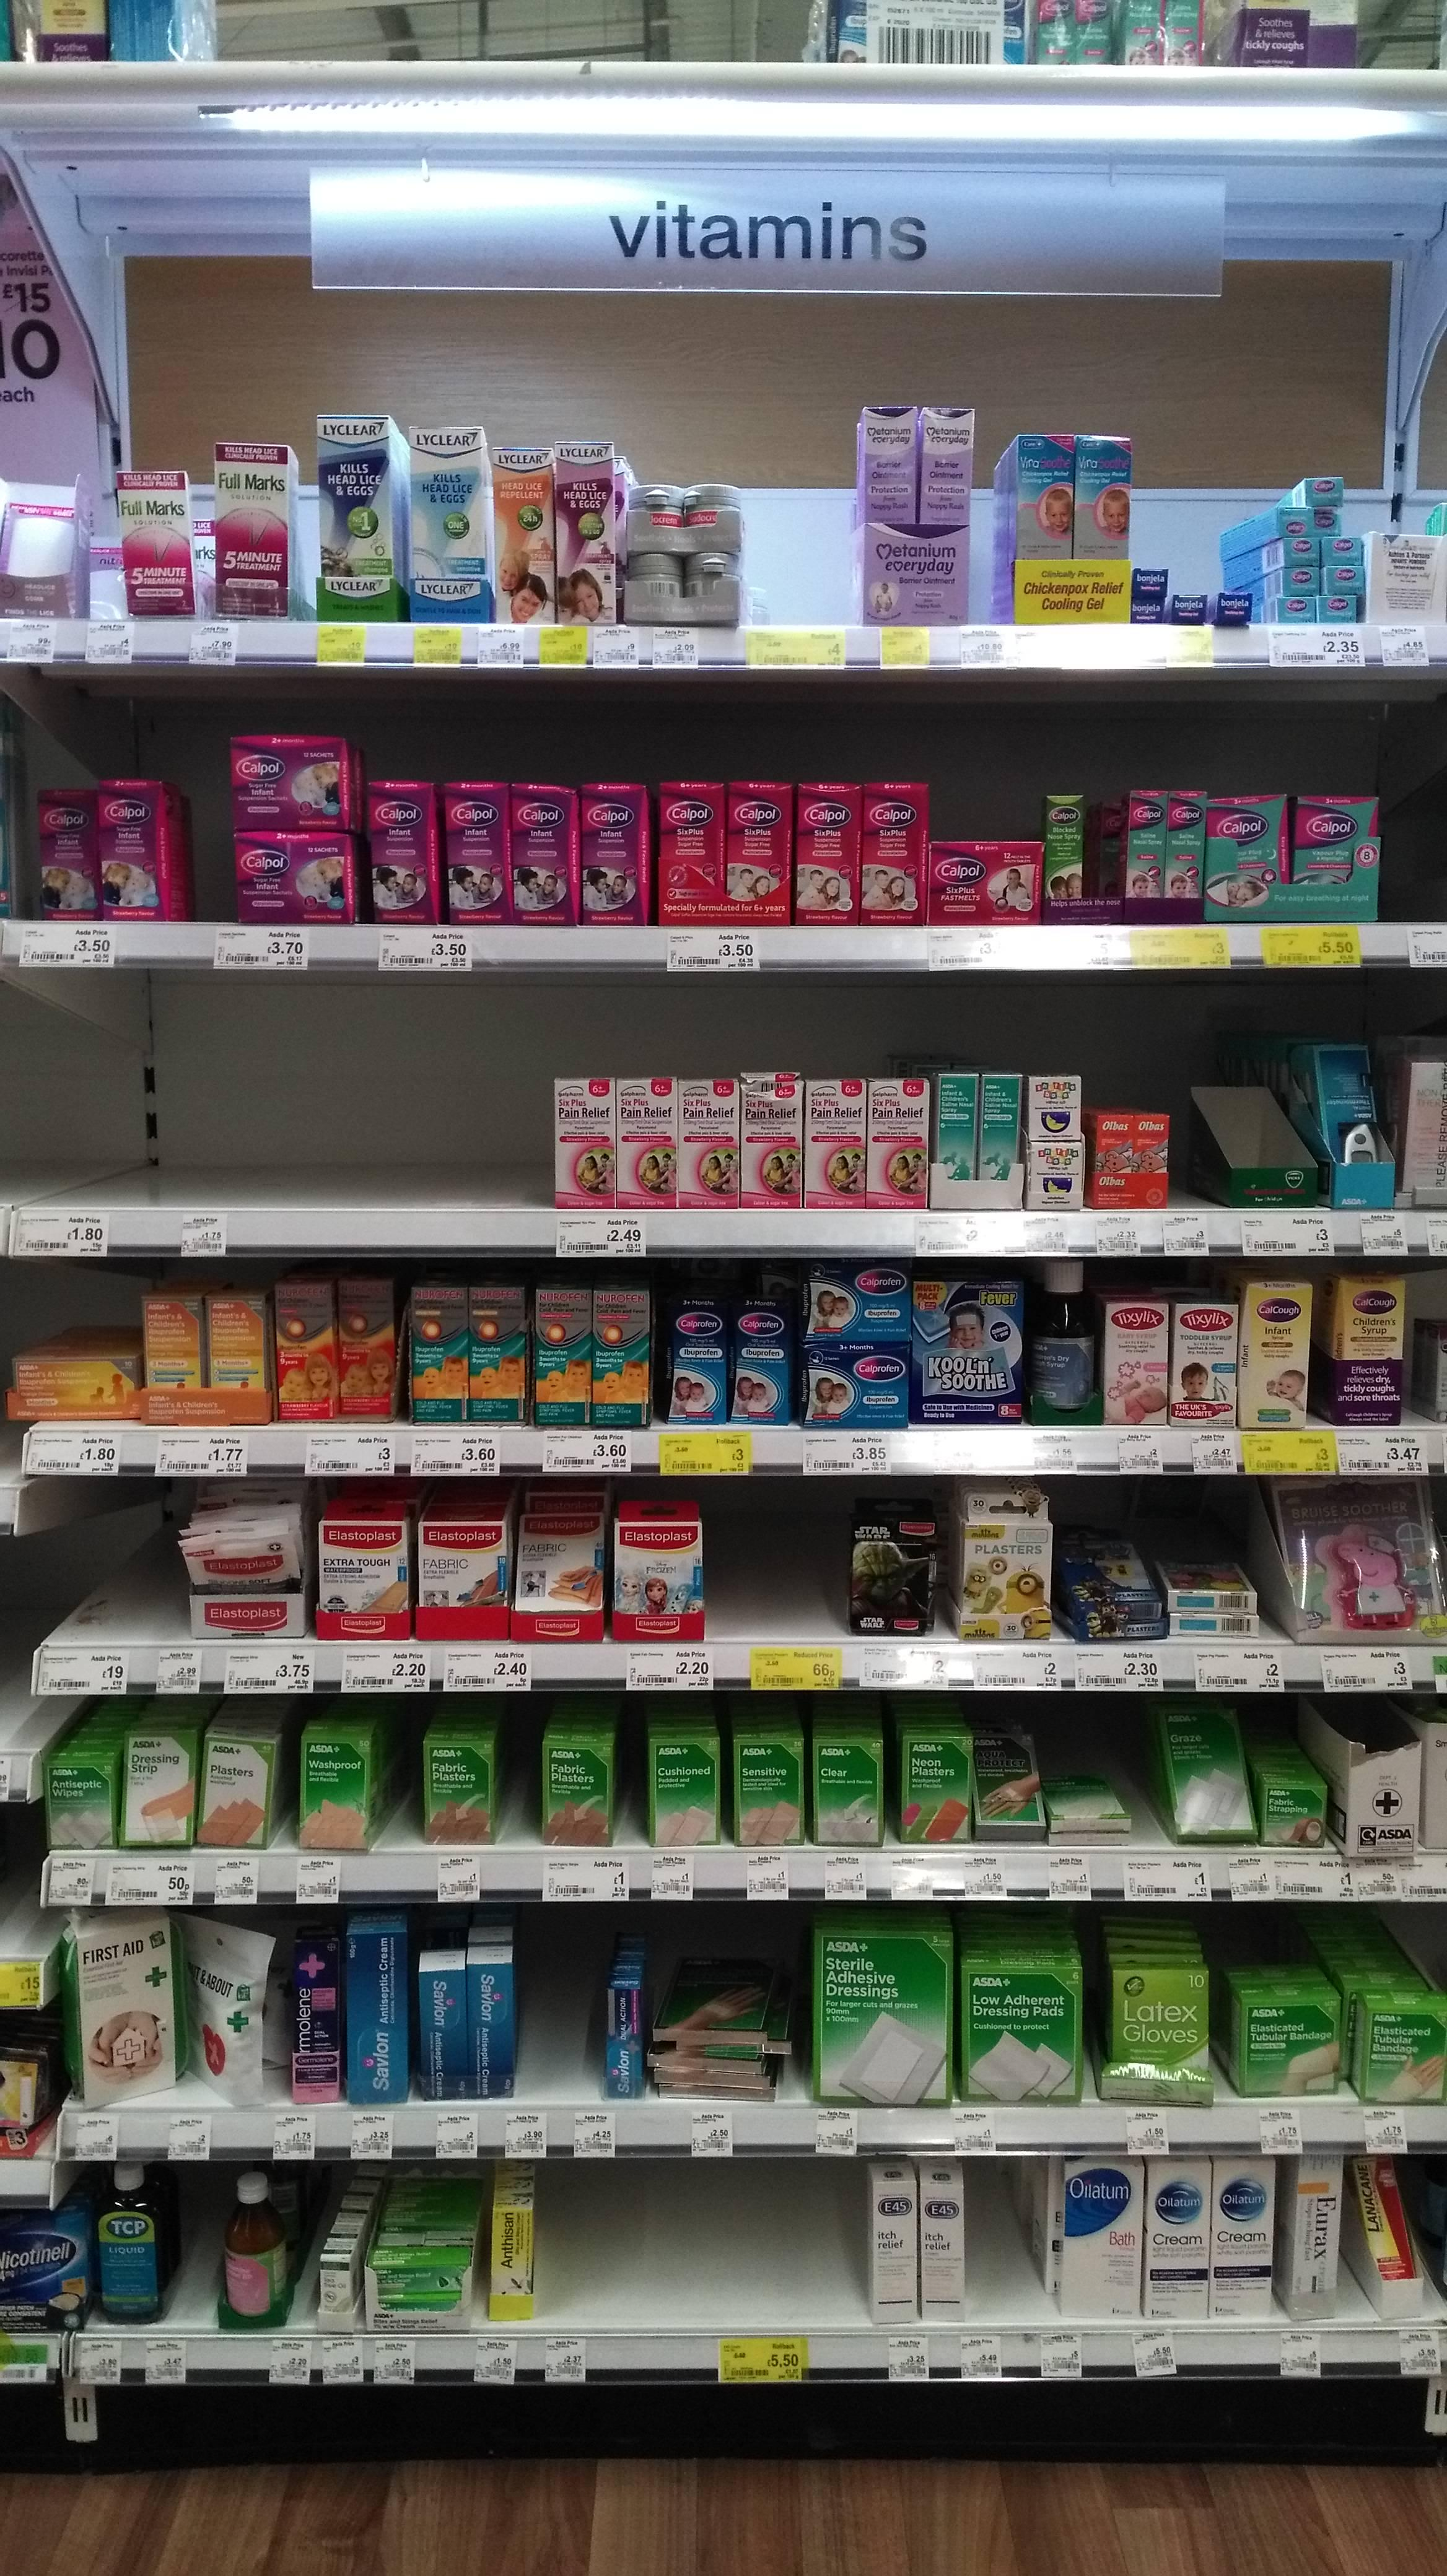misalignment: (53, 1923, 189, 2089), (168, 1488, 306, 1640), (653, 1960, 785, 2102), (1141, 1695, 1256, 1849), (193, 1920, 281, 2097), (1044, 1518, 1162, 1640), (1348, 2155, 1435, 2321), (1162, 1546, 1265, 1637), (1284, 2148, 1337, 2316), (1040, 1762, 1136, 1842)
